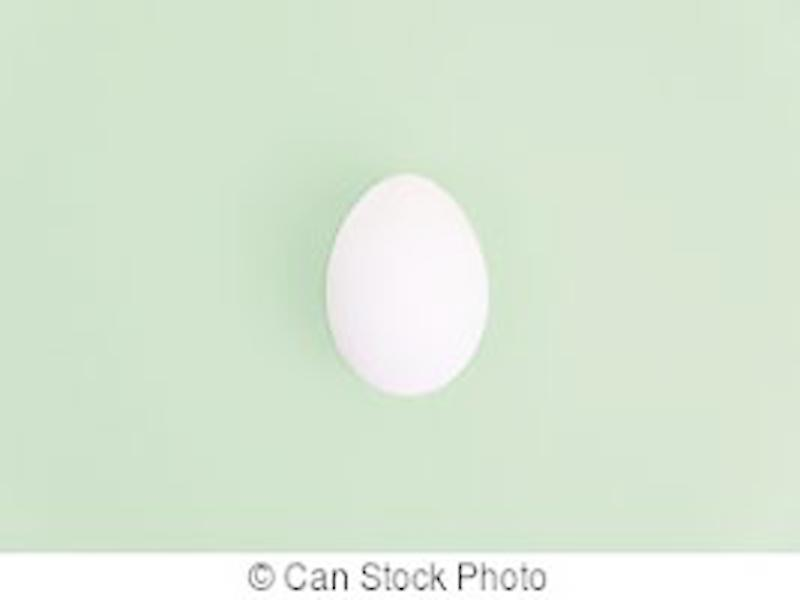Eggs: (327, 175, 485, 394)
